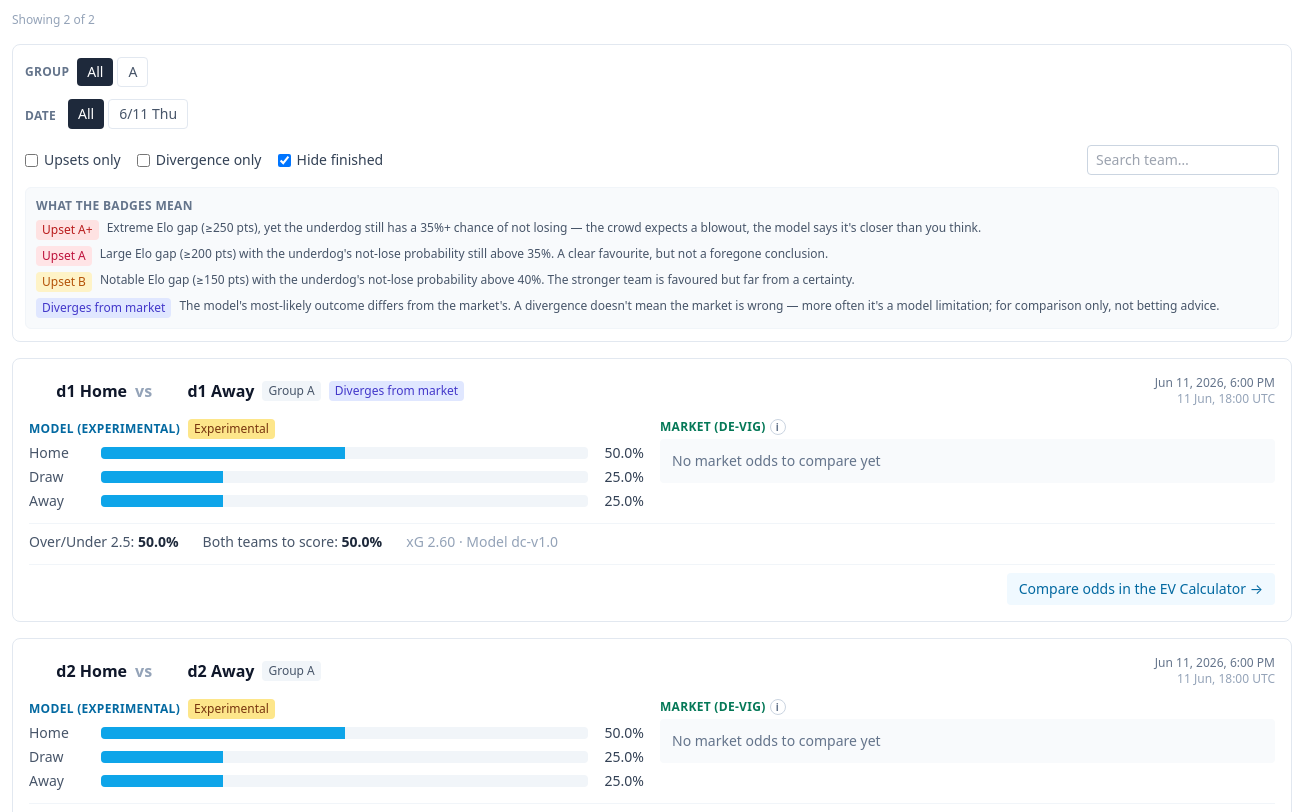
Test: MatchFilters (client-side filter, Issue 7) › filters to divergences only
Click the checkbox labelled "Divergence only": x=143, y=160 137,154 -> 150,166
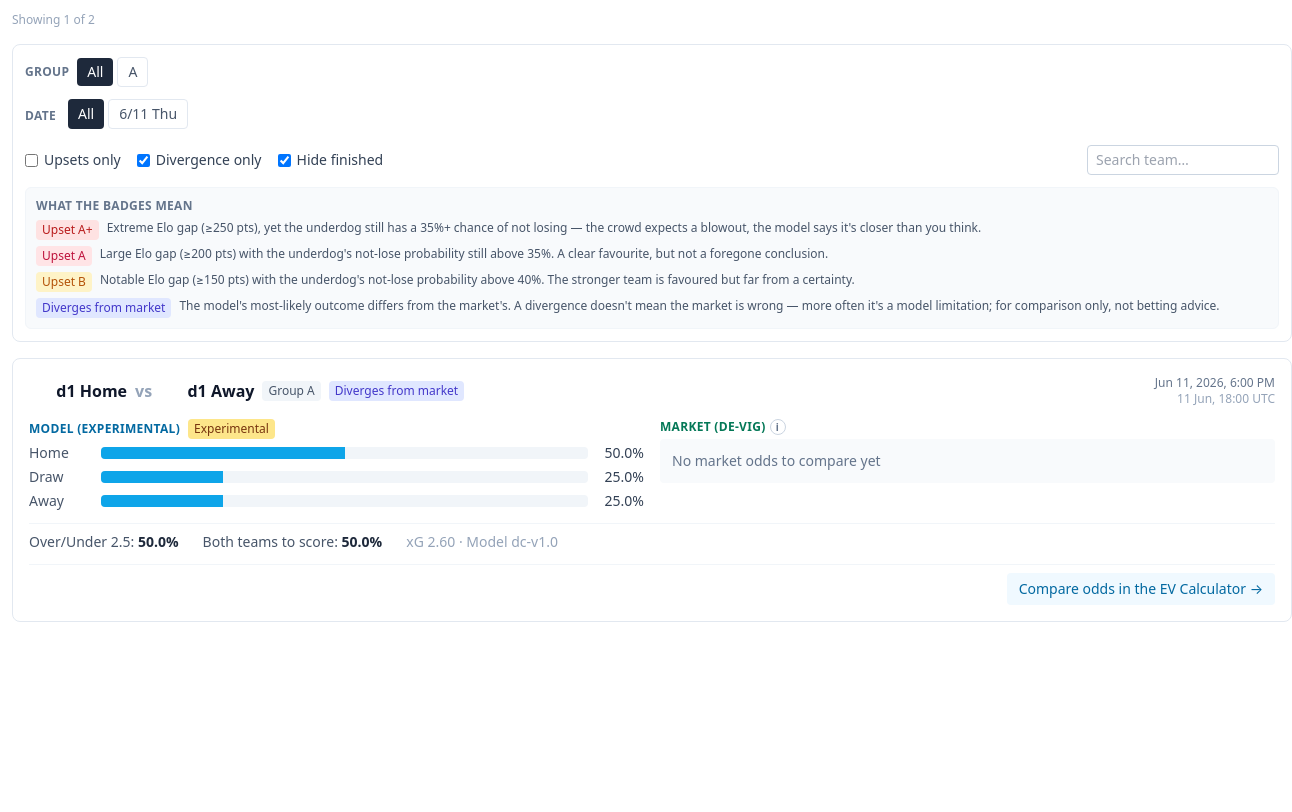
Expected: the text "Showing 1 of 2" is shown, 12,12 -> 95,28
